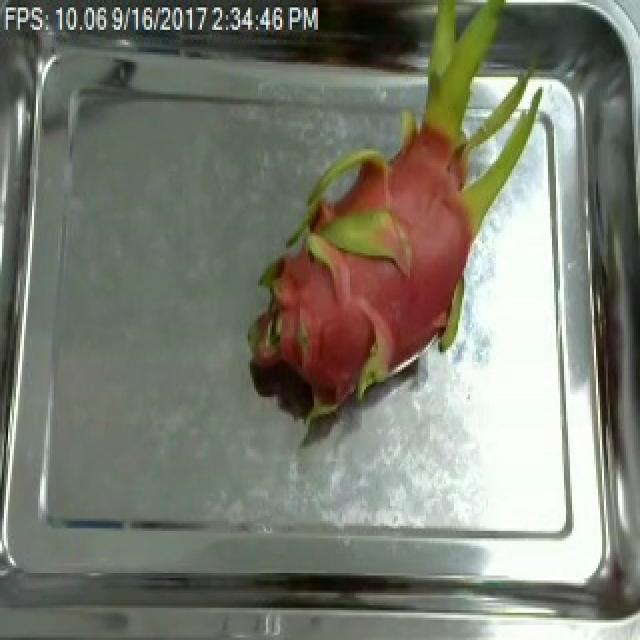fruit: (226, 10, 554, 432)
